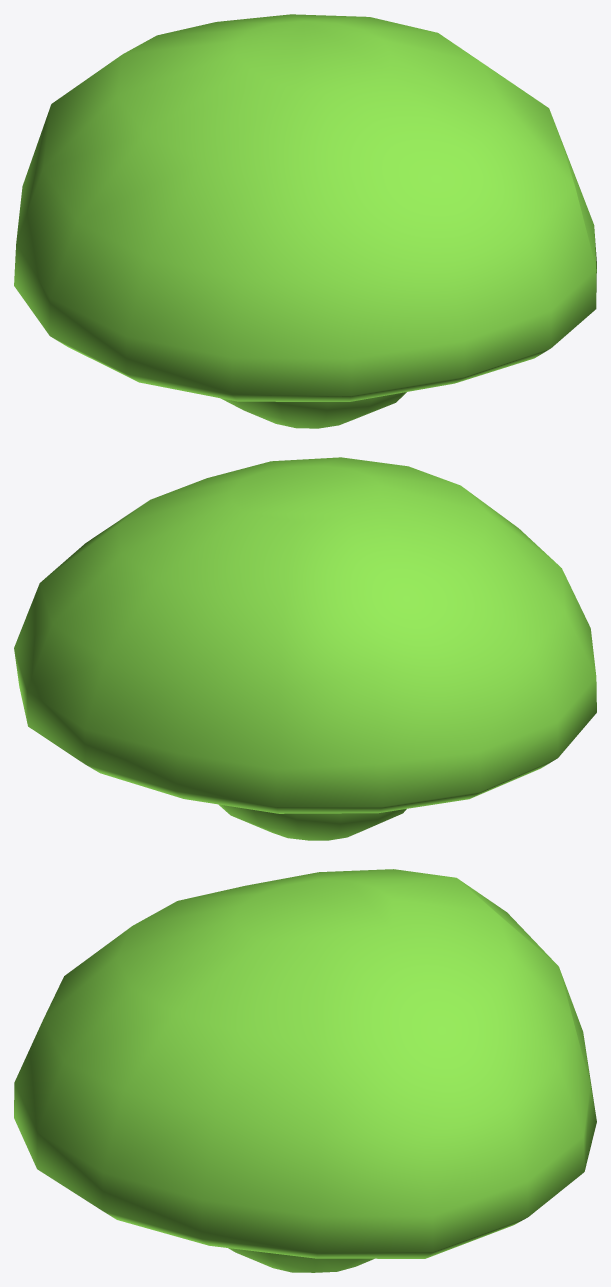
Rendered from mushroom3.fbx.
3 renders of one model, top to bottom at view 1: azimuth 30°, elevation 25°; view 2: azimuth 150°, elevation 25°; view 3: azimuth 270°, elevation 25°, orthographic. The views are drawn at different scales.
Parts seen in each view (by area): view 1: mushroom.002; view 2: mushroom.002; view 3: mushroom.002.
Part boxes in pixels (x1,y1,x2,y2): mushroom.002: (14, 14, 596, 428); mushroom.002: (14, 457, 596, 840); mushroom.002: (14, 869, 596, 1272).
Size of the model in its own units: 194 by 125 by 191.
